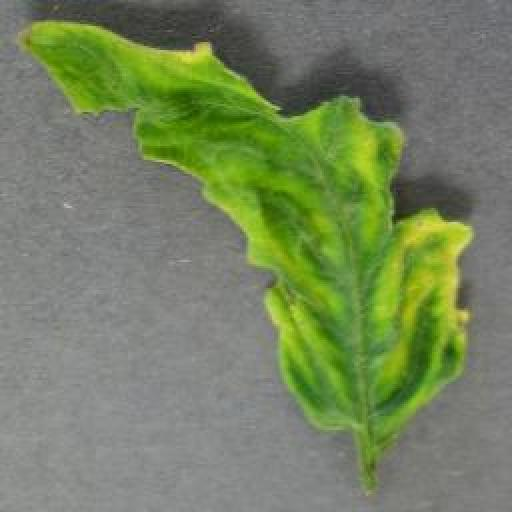disease_tomato: (13, 21, 476, 444)
